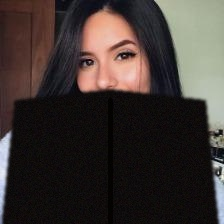Cadar_Niqab: (1, 0, 218, 224)
